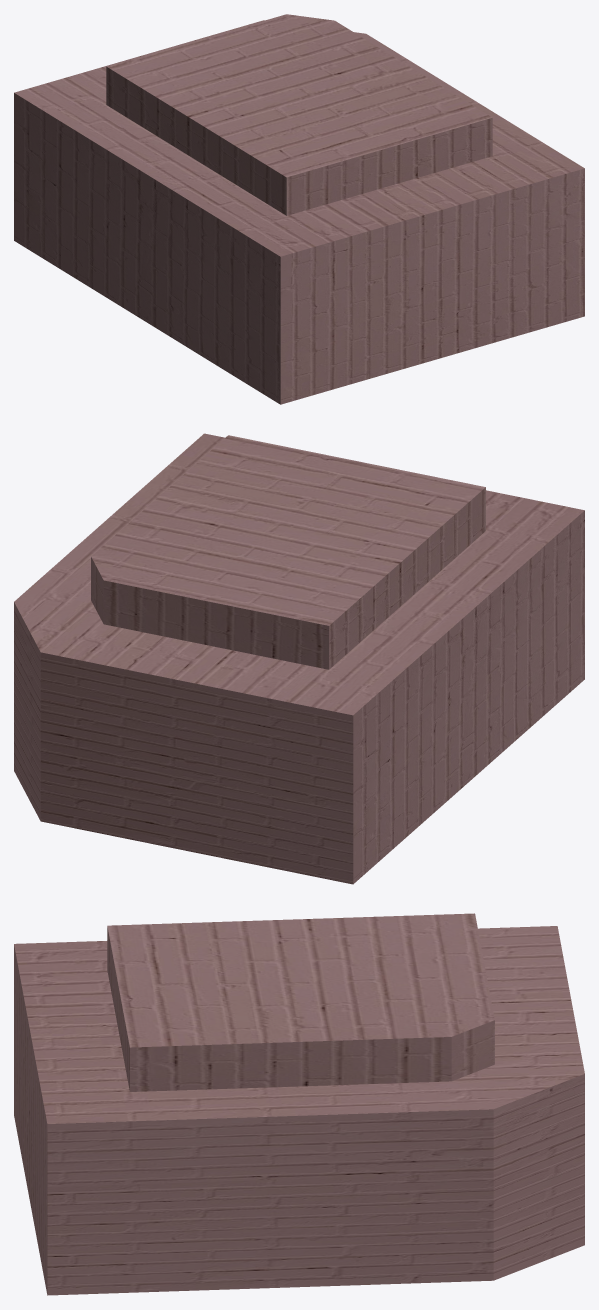
The model's file is MAMBA-OLD.gltf.
The picture shows the model from 3 angles, top to bottom: view 1: azimuth 30°, elevation 25°; view 2: azimuth 150°, elevation 25°; view 3: azimuth 270°, elevation 25°; orthographic projection. The views are drawn at different scales.
Parts seen in each view (by area): view 1: MAMBA; view 2: MAMBA; view 3: MAMBA.
Boxes of the visible parts, x1,y1,x2,y2 form: MAMBA: [14, 14, 584, 404]; MAMBA: [14, 433, 584, 884]; MAMBA: [14, 913, 584, 1295].
Bounding box in the file's own units: 1.29 × 0.6557 × 1.57.
1 material, 1 textured.
